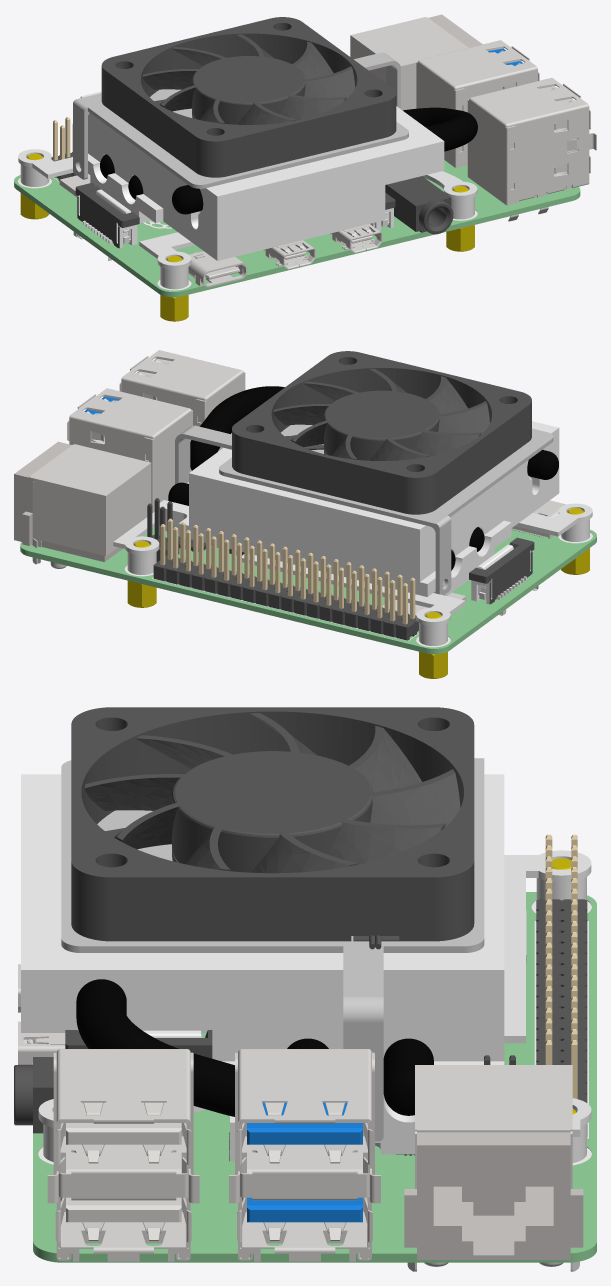
Rendered from ice-tower.glb.
The picture shows the model from 3 angles, top to bottom: view 1: azimuth 30°, elevation 25°; view 2: azimuth 150°, elevation 25°; view 3: azimuth 270°, elevation 25°; orthographic projection. The views are drawn at different scales.
Visible parts, largest first — view 1: Node8, Node15, Node2, Node9, Node17, Node14, Node16, Node5, Node4, Node13, Node6, Node7 (+3 smaller); view 2: Node8, Node15, Node2, Node9, Node10, Node4, Node17, Node14, Node16, Node11, Node5, Node13 (+2 smaller); view 3: Node8, Node15, Node2, Node11, Node9, Node5, Node17, Node16, Node4, Node14, Node12, Node10 (+2 smaller).
Boxes of the visible parts, <box> form: Node8: <box>101,17,453,234</box>; Node15: <box>79,91,444,260</box>; Node2: <box>59,17,596,236</box>; Node9: <box>14,160,580,297</box>; Node17: <box>73,52,408,188</box>; Node14: <box>18,149,477,289</box>; Node16: <box>100,107,477,214</box>; Node5: <box>263,40,539,269</box>; Node4: <box>51,152,395,248</box>; Node13: <box>20,153,474,321</box>; Node6: <box>188,233,372,287</box>; Node7: <box>18,177,477,290</box>; Node8: <box>232,351,531,514</box>; Node15: <box>159,421,559,596</box>; Node2: <box>29,350,505,615</box>; Node9: <box>20,525,596,654</box>; Node10: <box>160,518,415,624</box>; Node4: <box>147,498,534,640</box>; Node17: <box>175,424,553,595</box>; Node14: <box>113,503,592,645</box>; Node16: <box>168,386,558,570</box>; Node11: <box>14,441,122,568</box>; Node5: <box>67,388,189,461</box>; Node13: <box>127,508,589,678</box>; Node8: <box>14,707,474,1133</box>; Node15: <box>21,774,504,1161</box>; Node2: <box>47,910,579,1271</box>; Node11: <box>404,1132,583,1266</box>; Node9: <box>33,892,596,1262</box>; Node5: <box>18,964,380,1261</box>; Node17: <box>61,758,484,1141</box>; Node16: <box>76,979,433,1116</box>; Node4: <box>65,899,587,1161</box>; Node14: <box>38,850,591,1162</box>; Node12: <box>247,1102,362,1222</box>; Node10: <box>545,834,577,1098</box>.
Bounding box in the file's own units: 87.94 × 31.3 × 57.9.
